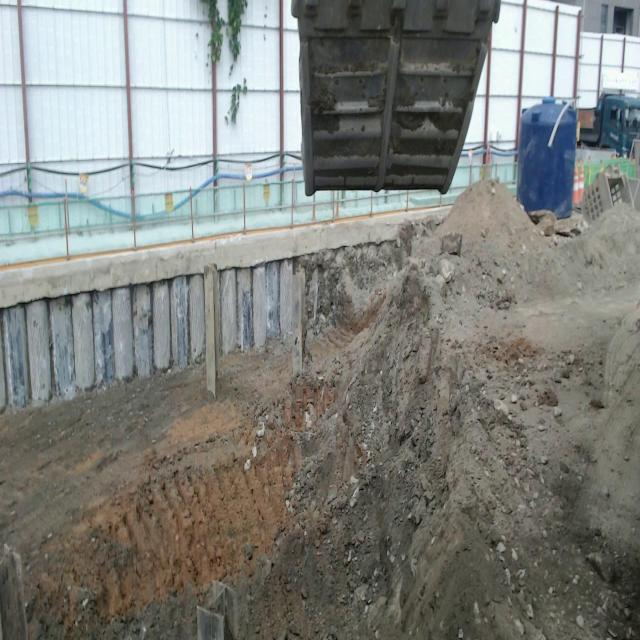cement: (0, 206, 449, 308)
red-sand: (0, 181, 640, 639)
rocks: (489, 340, 605, 639)
